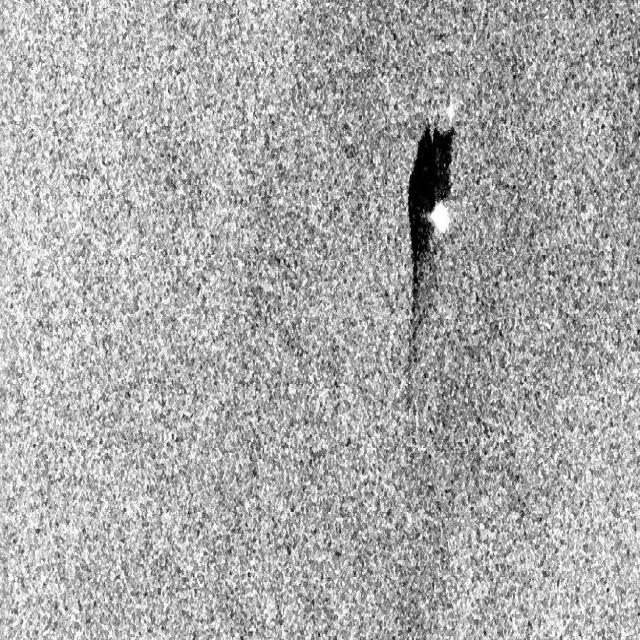oil-spill: (400, 112, 461, 317)
ship: (430, 200, 453, 237)
